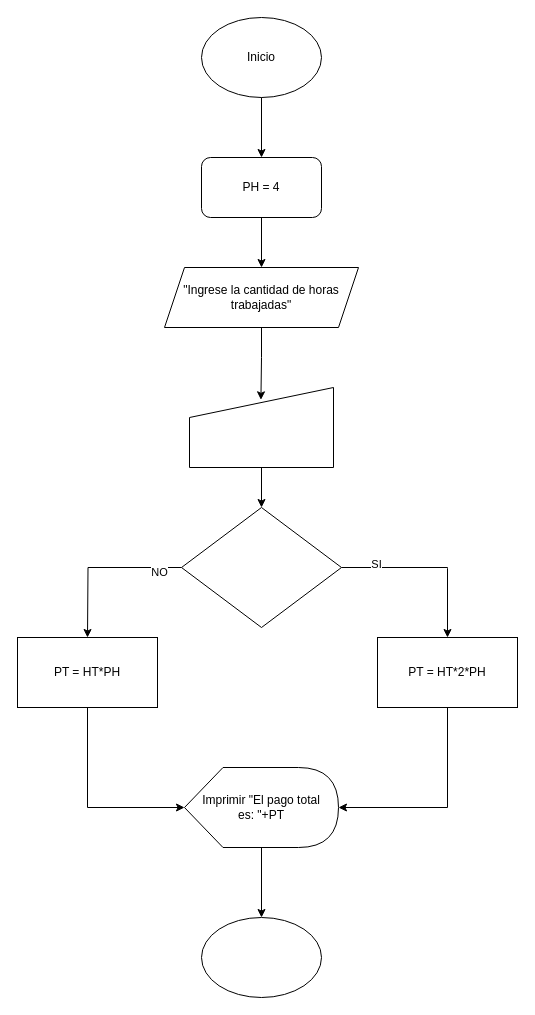
Image size: 535x1015. Some labels were removed from this diagram. Here are the shapes that lost their labels. From the top down, the box of each, then its label:
(188, 386, 334, 468): Leer (HT)
(180, 506, 342, 628): HT > 8
(200, 916, 322, 998): Fin
